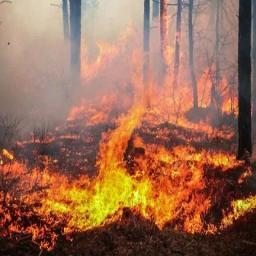Low smoke: (0, 0, 250, 126)
Medium fire: (0, 38, 254, 236)
